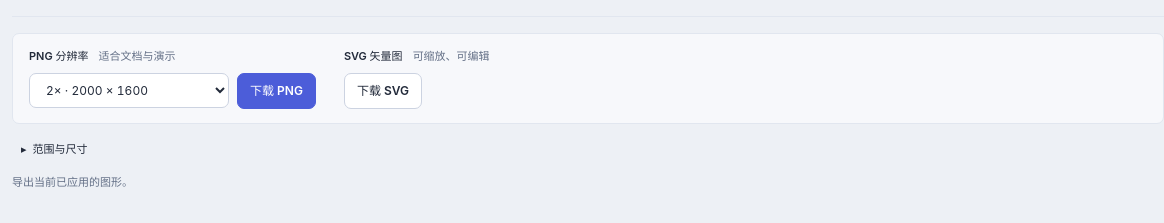
Test: export controls › shows an error and allows retry after a PNG failure
Click the button "下载 PNG" at {"x": 276, "y": 90}, box [237, 72, 316, 108]
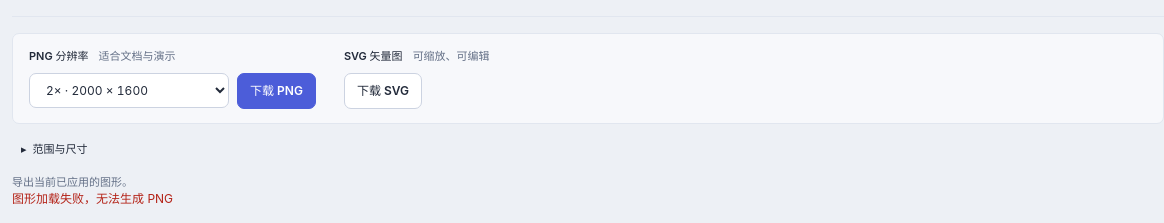
Check: the button "下载 SVG" is enabled, box [344, 72, 422, 108]
Check: the message "图形加载失败，无法生成 PNG" is shown, box [12, 191, 173, 206]
